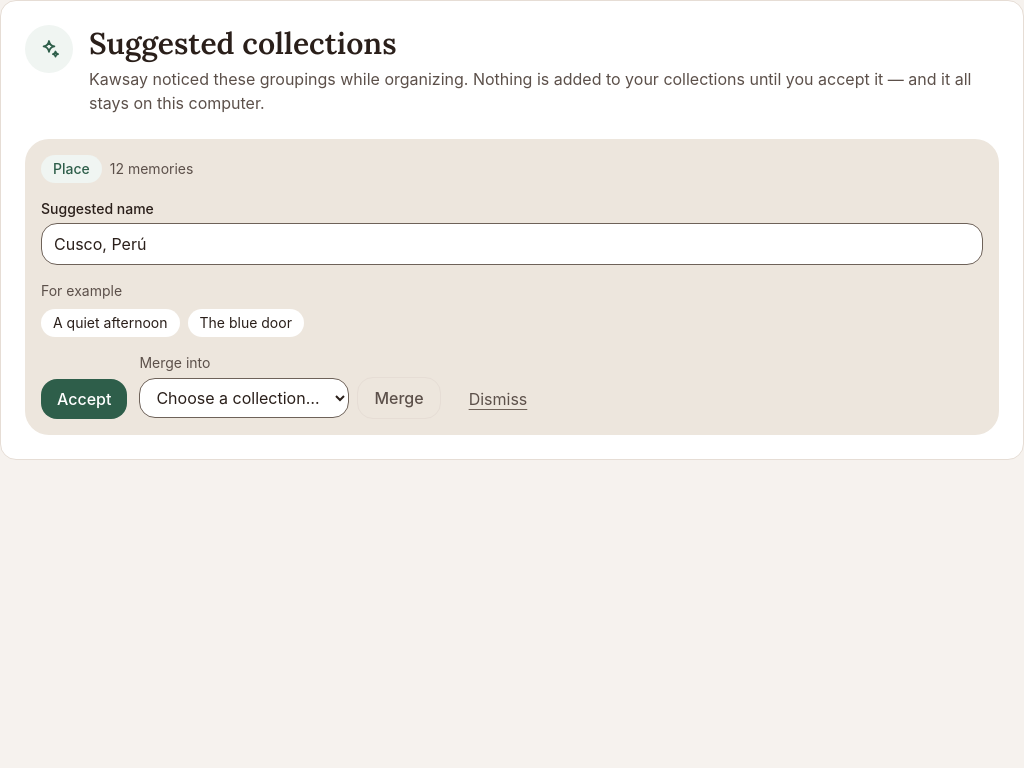
Test case: SuggestionsTray — a failed curation action surfaces a calm, non-blocking notice (#351 #5, #408) › shows a gentle status message and keeps the card when accept rejects
Click the button "Accept".
click(84, 398)  # box [41,378,127,418]
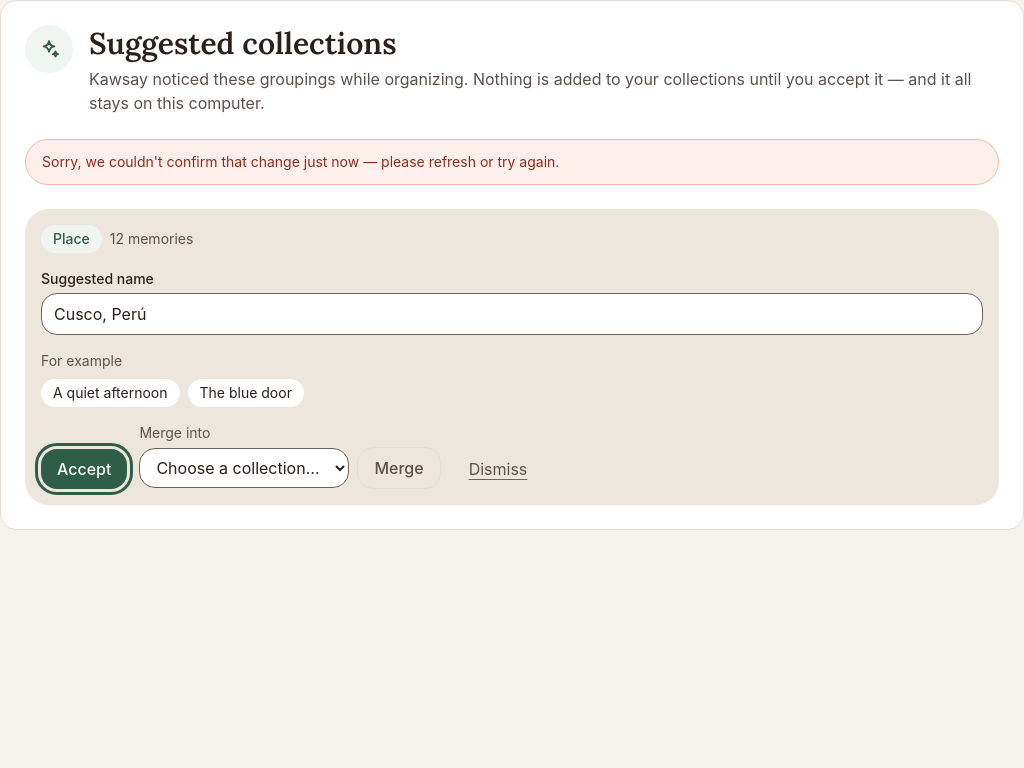
Expected: the list item is shown, [25,208,999,504]
Expected: the message shows "refresh or try again", [42,152,559,170]
